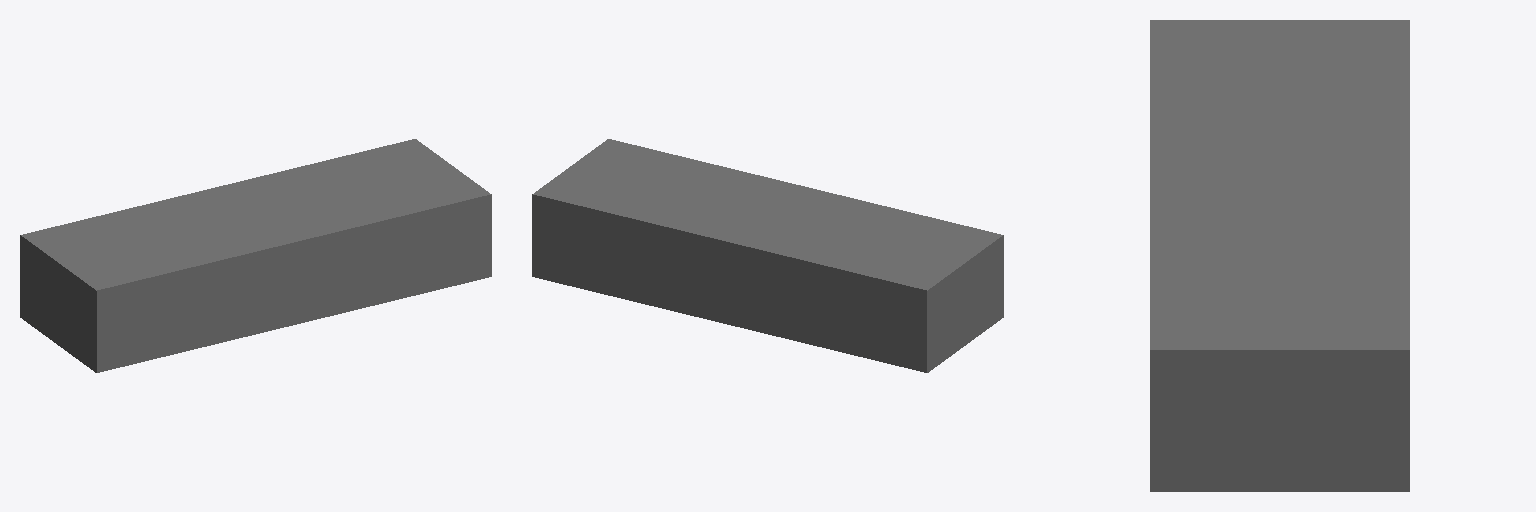
URDF robot description (jenga_block):
<?xml version="1.0"?>
<robot name="jenga_block">
  <link name="base">
    <visual>
      <geometry>
        <mesh filename="jenga_block.obj" scale="1 1 1"/>
      </geometry>
      <material name="gray">
        <color rgba="0.5 0.5 0.5 1.0"/>
      </material>
    </visual>
    <collision>
      <geometry>
        <box size="0.45 0.15 0.09"/>
      </geometry>
    </collision>
    <inertial>
      <mass value="1.000"/>
      <inertia
          ixx="0.000283" ixy="0.000000" ixz="0.000000"
          iyy="0.001950" iyz="0.000000"
          izz="0.002083"/>
      <origin xyz="0.000000 0.000000 0.000000" rpy="0 0 0"/>
    </inertial>
  </link>
</robot>

--- Facts derived from the render (not from the file) ---
The picture shows the robot from 3 angles, left to right: view 1: azimuth 30°, elevation 25°; view 2: azimuth 150°, elevation 25°; view 3: azimuth 270°, elevation 25°; orthographic projection.
Model jenga_block with 1 links and 0 joints (none), rooted at base, posed all joints at 0.
Links seen in each view (by area): view 1: base; view 2: base; view 3: base.
Link boxes in pixels (<box>): base: <box>20,139,491,372</box>; base: <box>532,139,1003,372</box>; base: <box>1150,20,1409,491</box>.
Bounding box of the posed robot: 0.45 × 0.15 × 0.09 m (x, y, z).
1 mesh visuals loaded from 1 distinct referenced files (1 OBJ).
